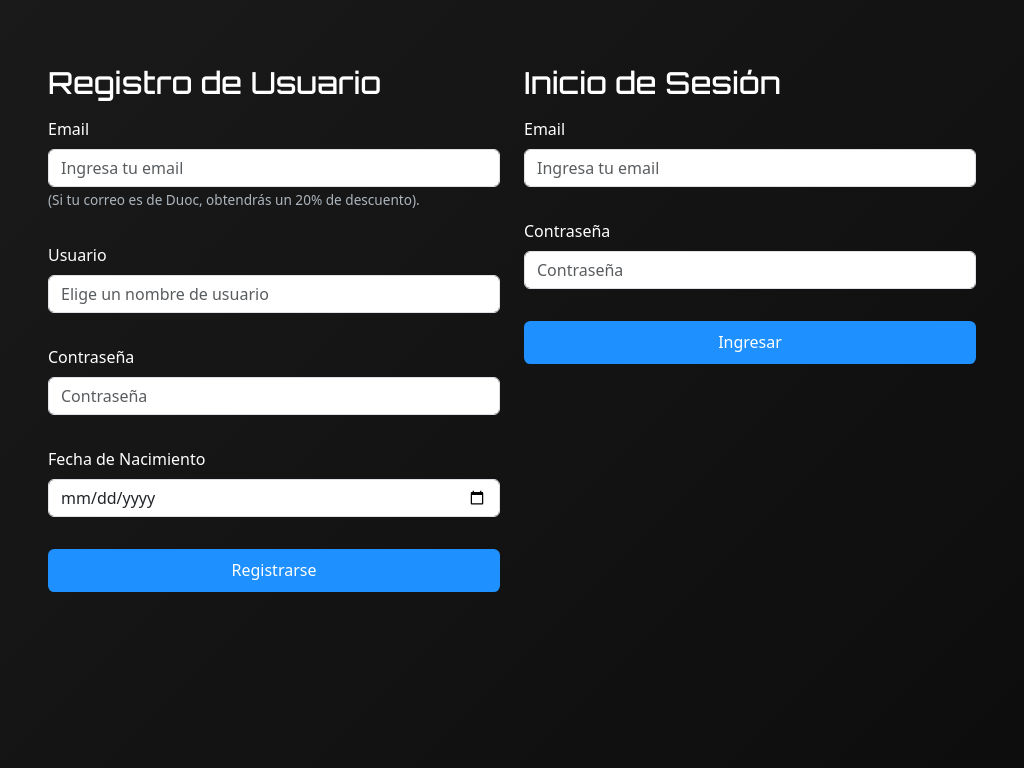
Scenario: Componente: Login › debe mostrar error si el login es incorrecto
The image size is (1024, 768).
Type "mal@usuario.com" into the field with test id "login-email-input" at (750, 168), box [524,148,976,186]
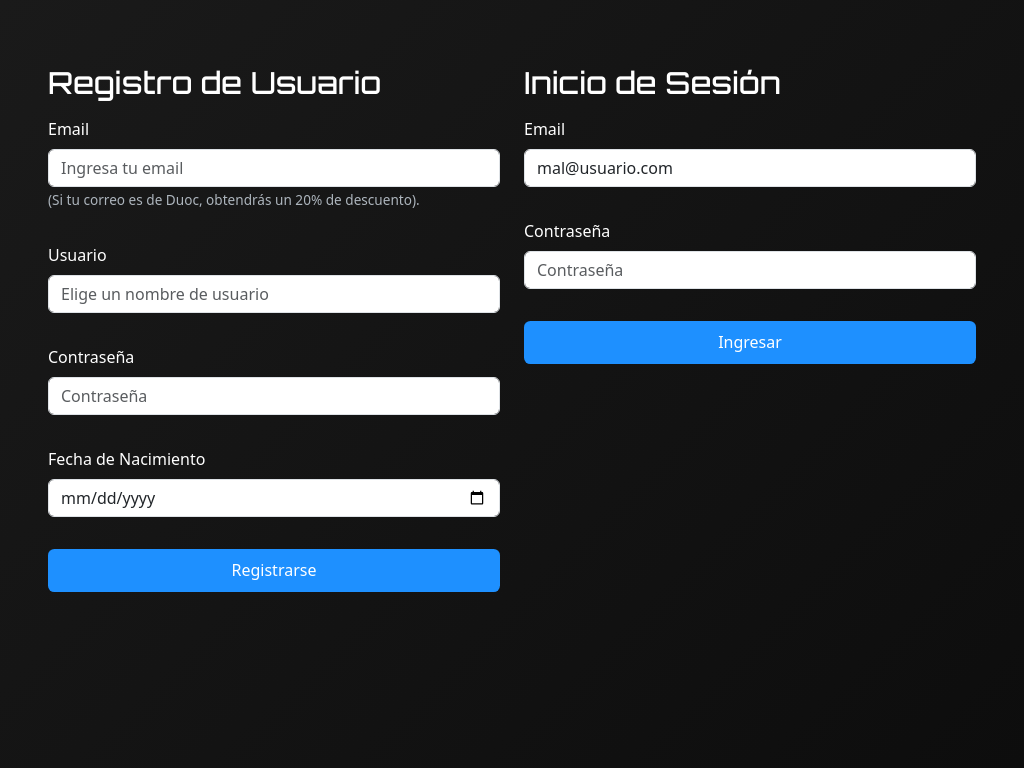
Type "123" into the password field with test id "login-password-input" at (750, 270), box [524,250,976,288]
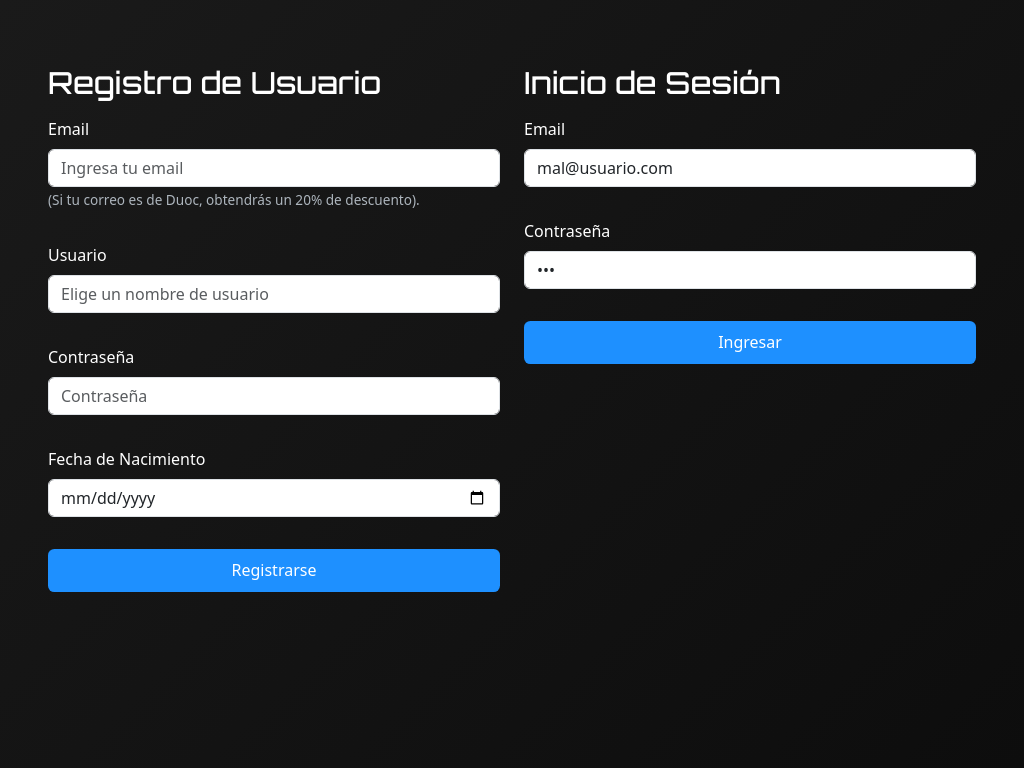
Submit the form with test id "login-form", box [524,116,976,364]
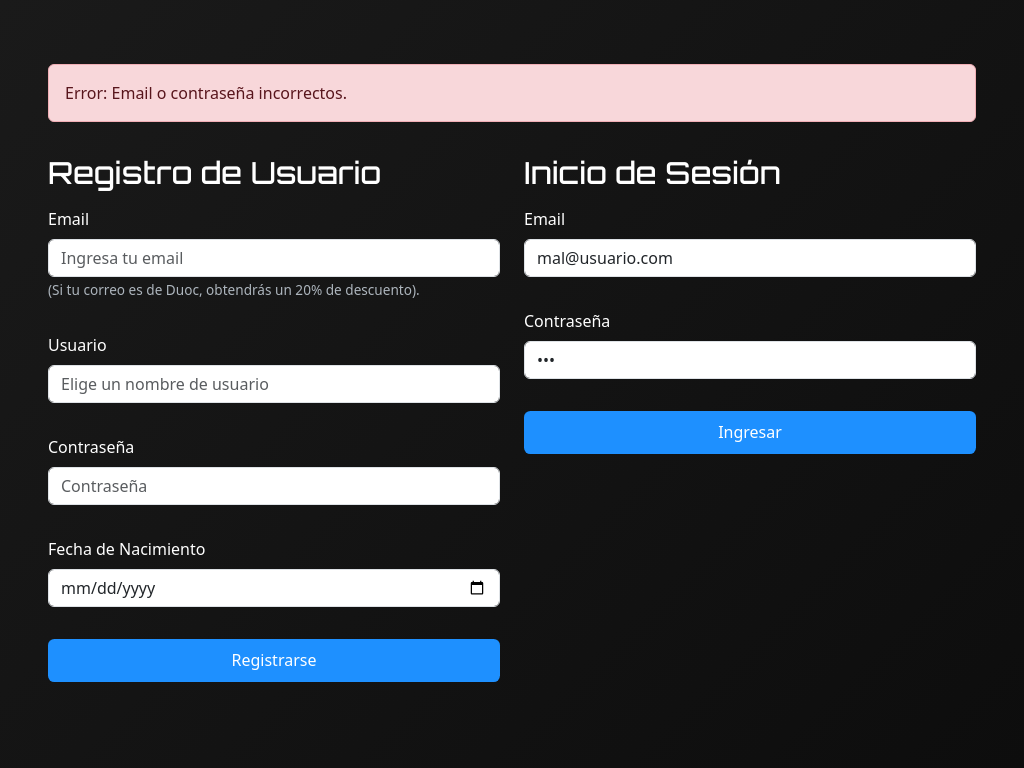
Result: the message with test id "message-alert" reads "Error: Email o contraseña incorrectos." at [65,82,347,104]
